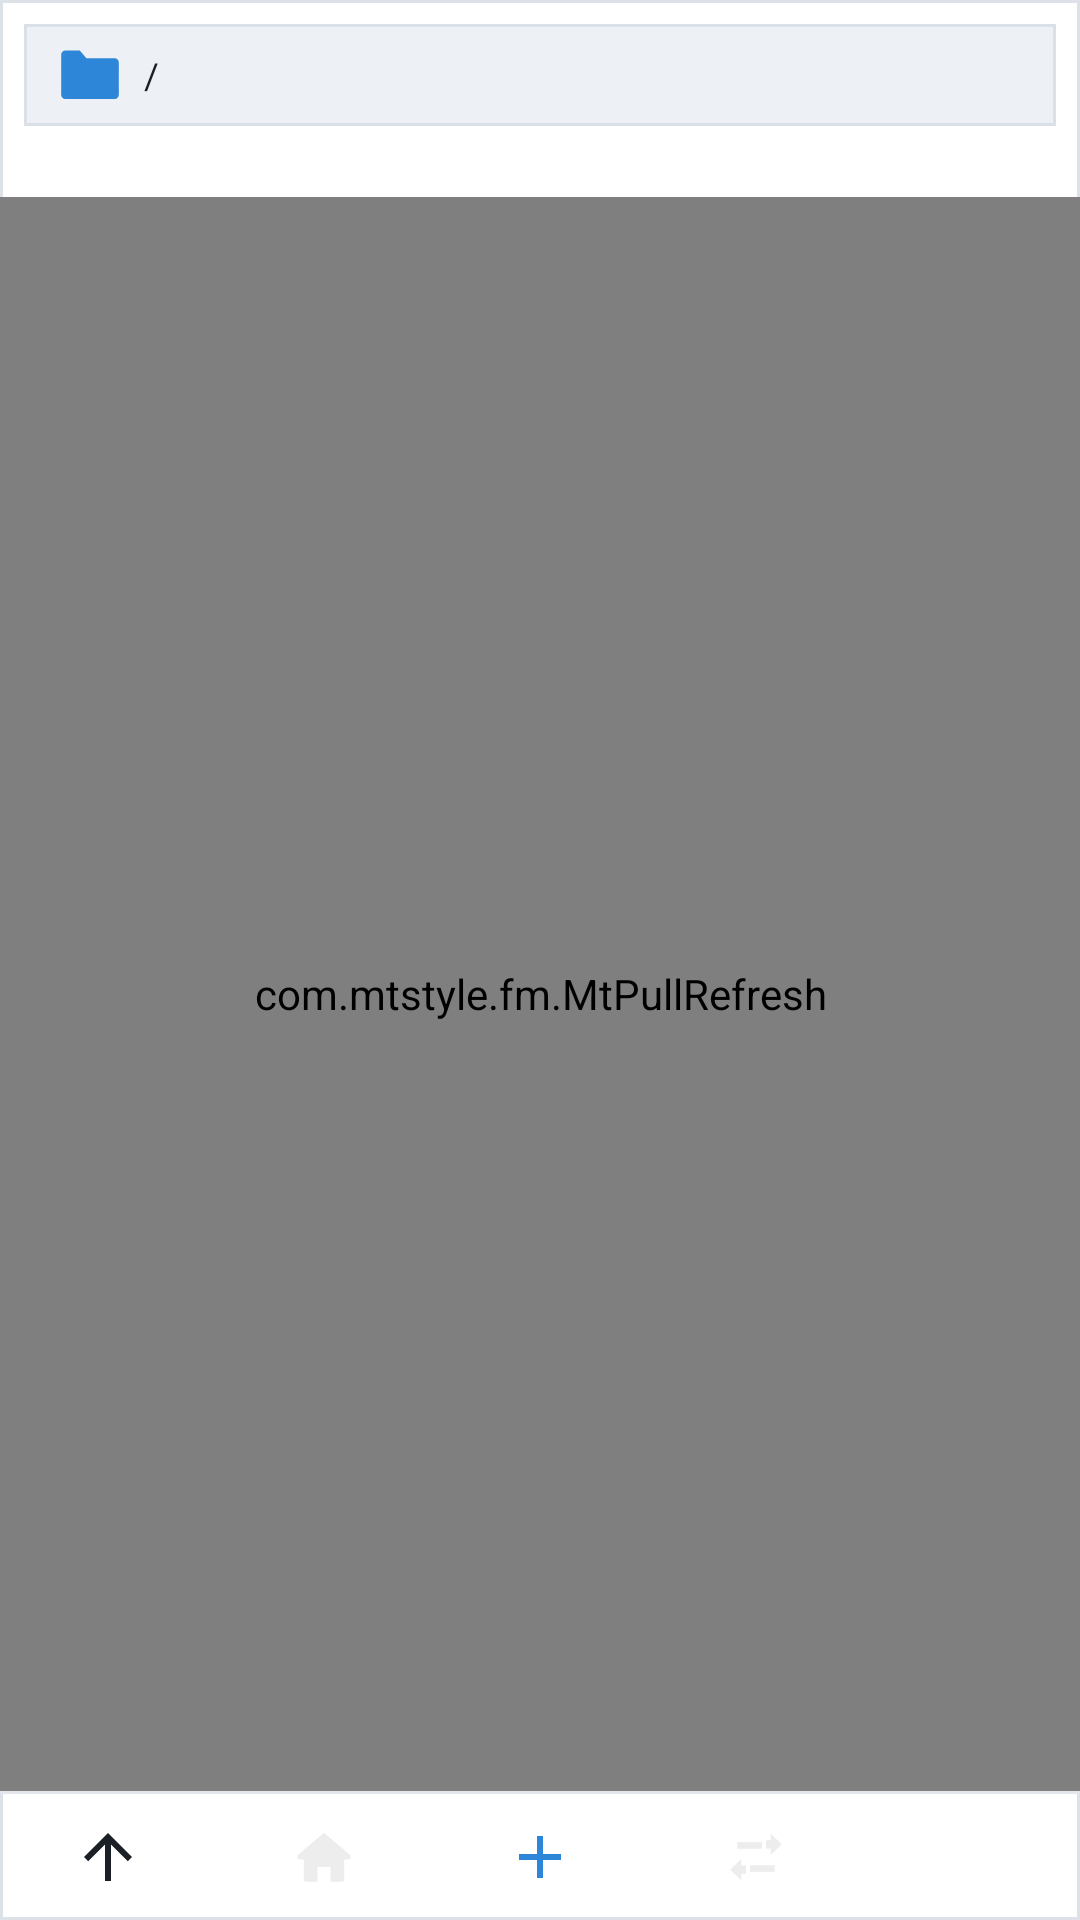

Screen size 1080px x 1920px. Icon name, then its center in pixels as point (x, y):
上一级: point (108, 1857)
主页: point (324, 1857)
排序: point (756, 1857)
新建文件夹: point (540, 1857)
